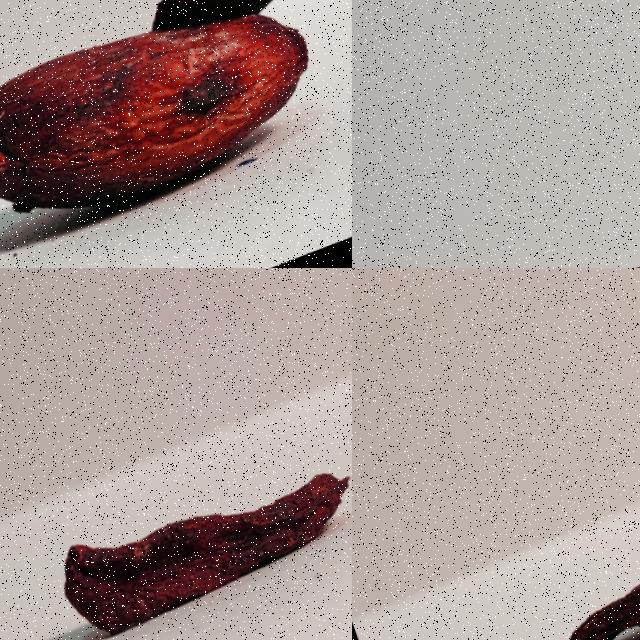Agglomerated_cocoabeans: (0, 0, 351, 267)
Fine_cocoabeans: (441, 168, 639, 267)
Flat_cocoabeans: (0, 405, 351, 639), (406, 446, 639, 639)
